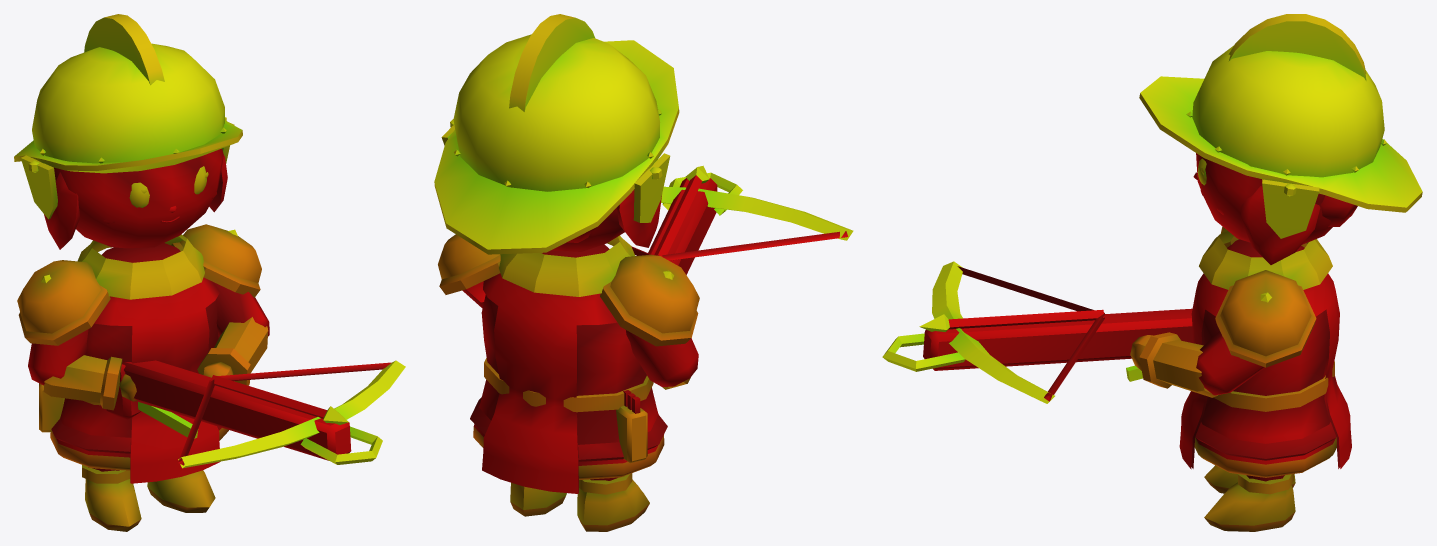
The model's file is Crossbowman.glb.
3 views of the same model, side by side, from view 1: azimuth 30°, elevation 25°; view 2: azimuth 150°, elevation 25°; view 3: azimuth 270°, elevation 25° (orthographic). The views are drawn at different scales.
Visible parts, largest first — view 1: Crossbowman; view 2: Crossbowman; view 3: Crossbowman.
Boxes of the visible parts, left/top/right/bottom form: Crossbowman: left=14, top=14, right=405, bottom=531; Crossbowman: left=434, top=14, right=853, bottom=531; Crossbowman: left=882, top=14, right=1422, bottom=531.
Bounding box in the file's own units: 0.5657 × 0.9284 × 0.9329.
